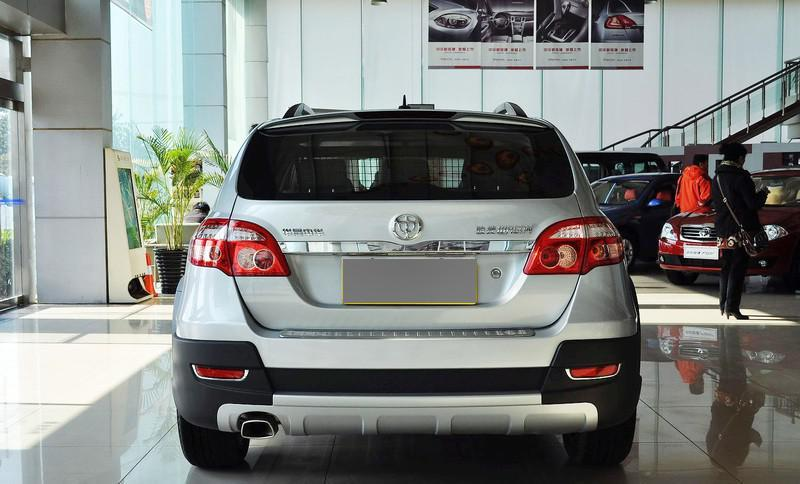Wagon: (169, 101, 643, 469)
